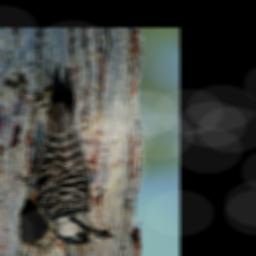Woodpecker: (13, 61, 116, 246)
